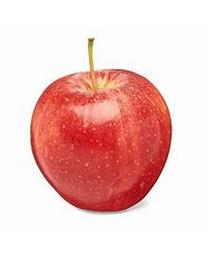apple: (29, 35, 172, 211)
